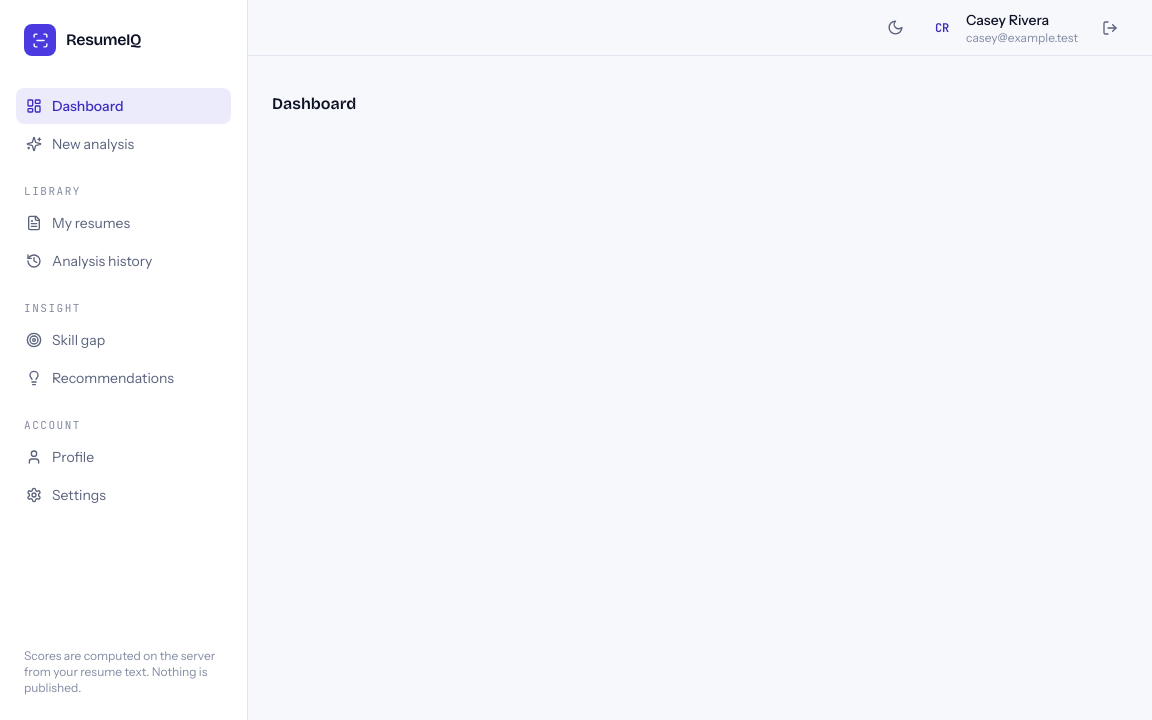
Test case: AppLayout › does not leave focus on the navigation after a route change
Expected: the heading "Dashboard" is shown, x1=272 y1=94 x2=356 y2=113
Click the link "My resumes": (78, 223) x1=26 y1=214 x2=130 y2=232
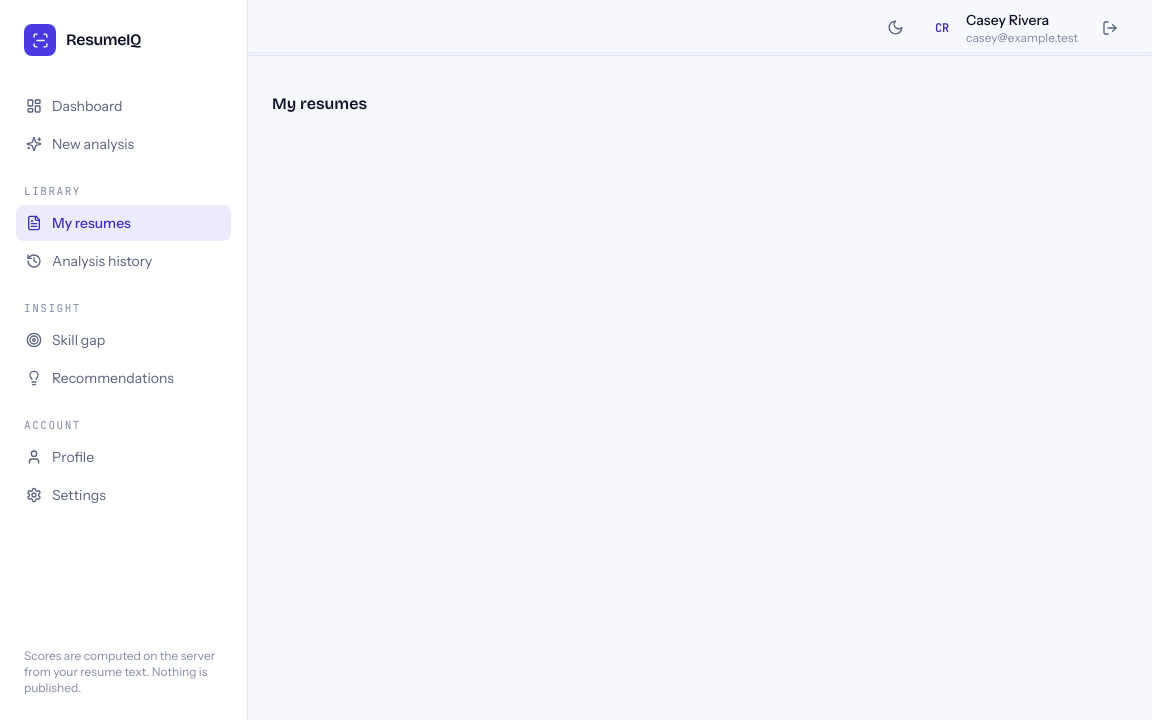
Expected: the heading "My resumes" is shown, x1=272 y1=94 x2=367 y2=113
